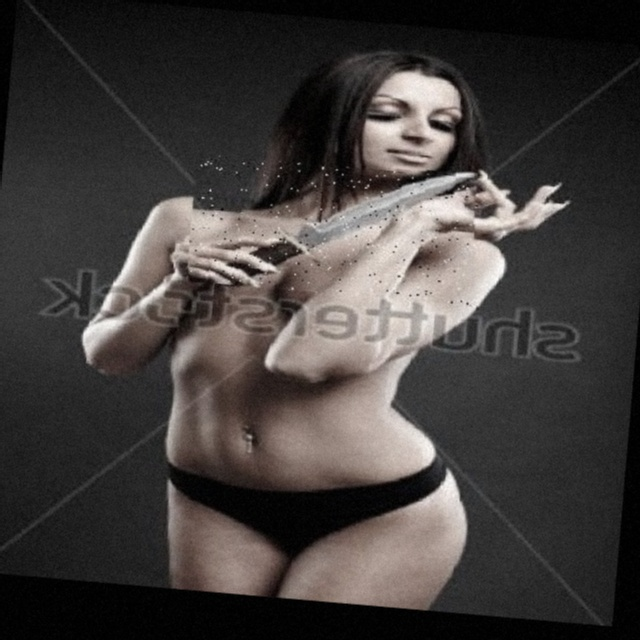Sharp-Object: (186, 153, 482, 305)
